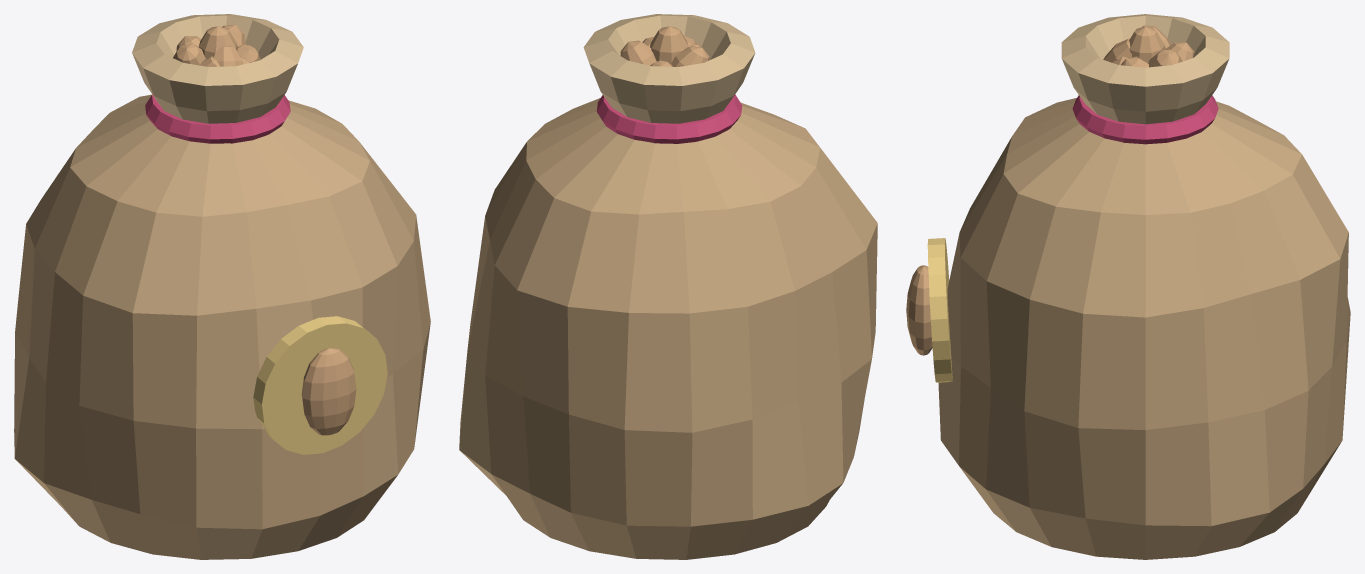
The model's file is ITEM_AlmondSack.fbx.
3 renders of one model, left to right at view 1: azimuth 30°, elevation 25°; view 2: azimuth 150°, elevation 25°; view 3: azimuth 270°, elevation 25°, orthographic.
Visible parts, largest first — view 1: ITEM_AlmondSack; view 2: ITEM_AlmondSack; view 3: ITEM_AlmondSack.
Boxes of the visible parts, <box> form: ITEM_AlmondSack: <box>14,14,430,559</box>; ITEM_AlmondSack: <box>459,14,877,559</box>; ITEM_AlmondSack: <box>906,14,1350,559</box>.
Size of the model in its own units: 48.27 by 60.17 by 52.05.
